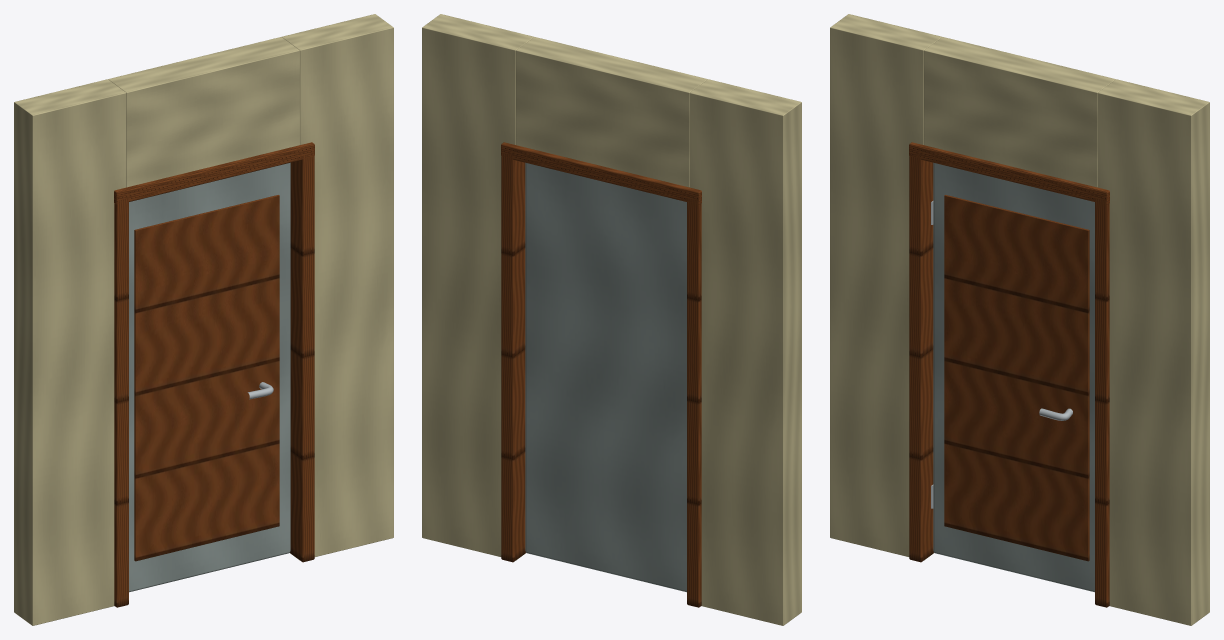
The model's file is three-d-liminal-spaces-kit-liminal-spaces-kit-doorway-door-fad0eb36.glb.
3 views of the same model, side by side, from view 1: azimuth 30°, elevation 25°; view 2: azimuth 150°, elevation 25°; view 3: azimuth 330°, elevation 25° (orthographic).
Parts seen in each view (by area): view 1: doorway-door, door (×2); view 2: doorway-door, door; view 3: doorway-door, door (×2).
Boxes of the visible parts, <box> form: doorway-door: <box>14,14,393,625</box>; door (×2): <box>129,162,290,592</box>; doorway-door: <box>422,14,801,625</box>; door: <box>525,162,686,592</box>; doorway-door: <box>830,14,1209,625</box>; door (×2): <box>933,162,1094,592</box>.
Bounding box in the file's own units: 2 × 2.7 × 0.2473.
4 materials, 3 textured.
